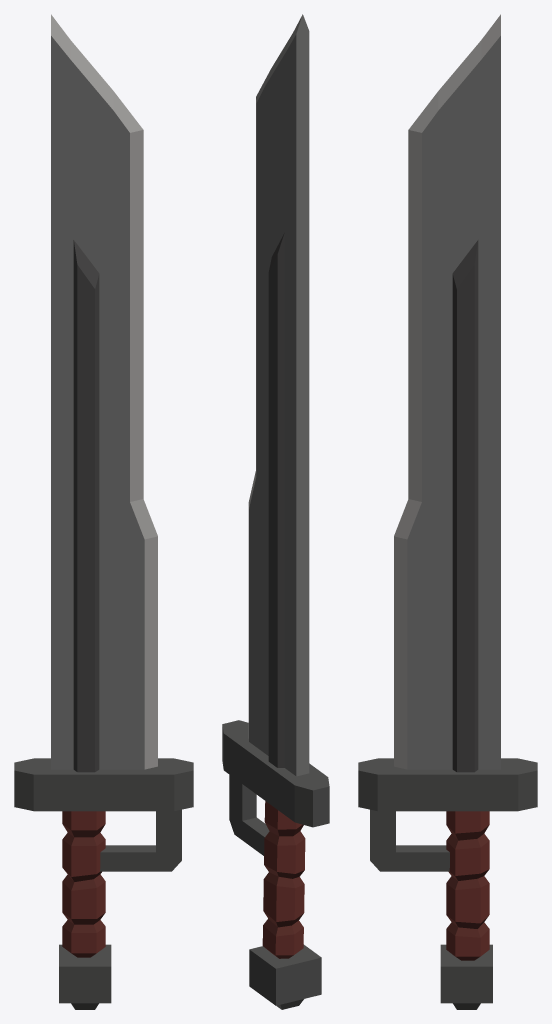
File: SM_Wep_GreatSword_01.FBX
The picture shows the model from 3 angles, left to right: view 1: azimuth 90°, elevation 25°; view 2: azimuth 210°, elevation 25°; view 3: azimuth 270°, elevation 25°; orthographic projection.
Visible parts, largest first — view 1: SM_Wep_GreatSword_01; view 2: SM_Wep_GreatSword_01; view 3: SM_Wep_GreatSword_01.
Part boxes in pixels (x1,y1,x2,y2): SM_Wep_GreatSword_01: [14, 14, 193, 1009]; SM_Wep_GreatSword_01: [222, 14, 329, 1009]; SM_Wep_GreatSword_01: [358, 14, 537, 1009].
Size of the model in its own units: 7.29 by 24.89 by 152.
